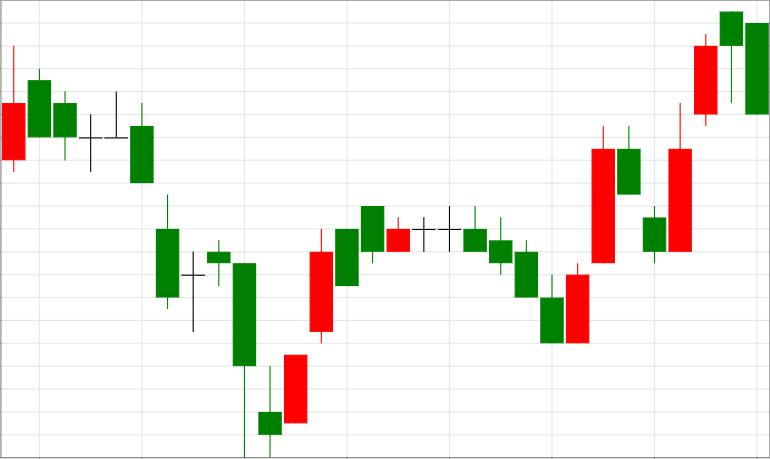bullish_engulfing_rise: (412, 206, 589, 344)
hanging_man_fall: (644, 11, 742, 265)
